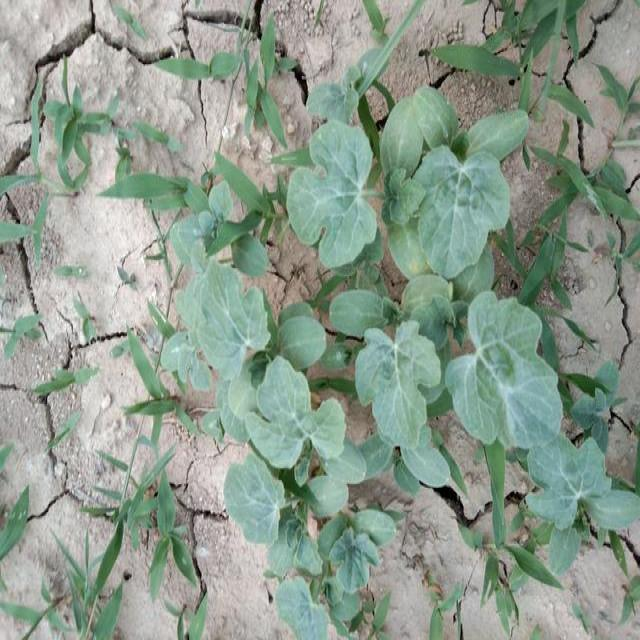weed: (166, 148, 368, 484), (273, 300, 566, 470), (284, 88, 528, 254), (218, 440, 392, 616), (510, 405, 639, 549)
